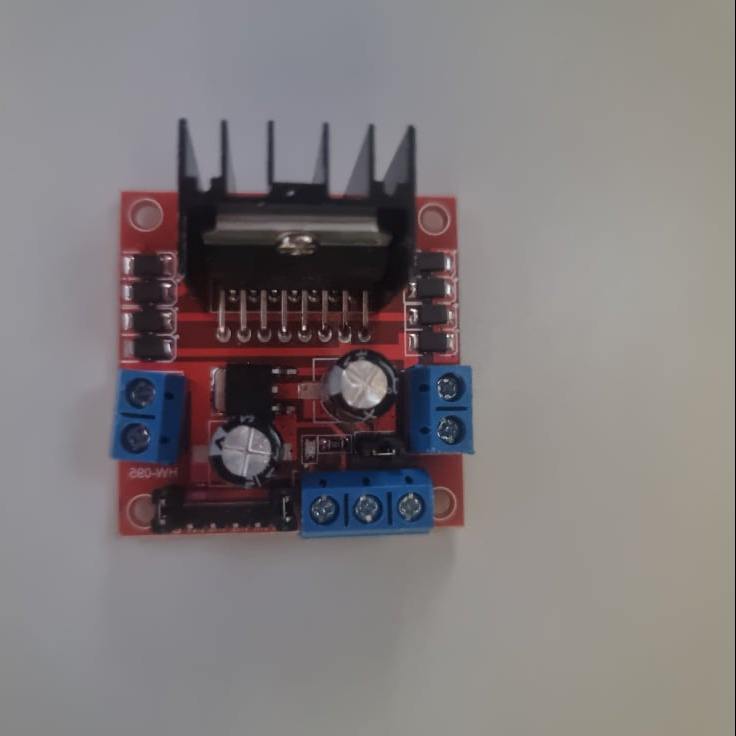MOTOR: (111, 115, 475, 536)
